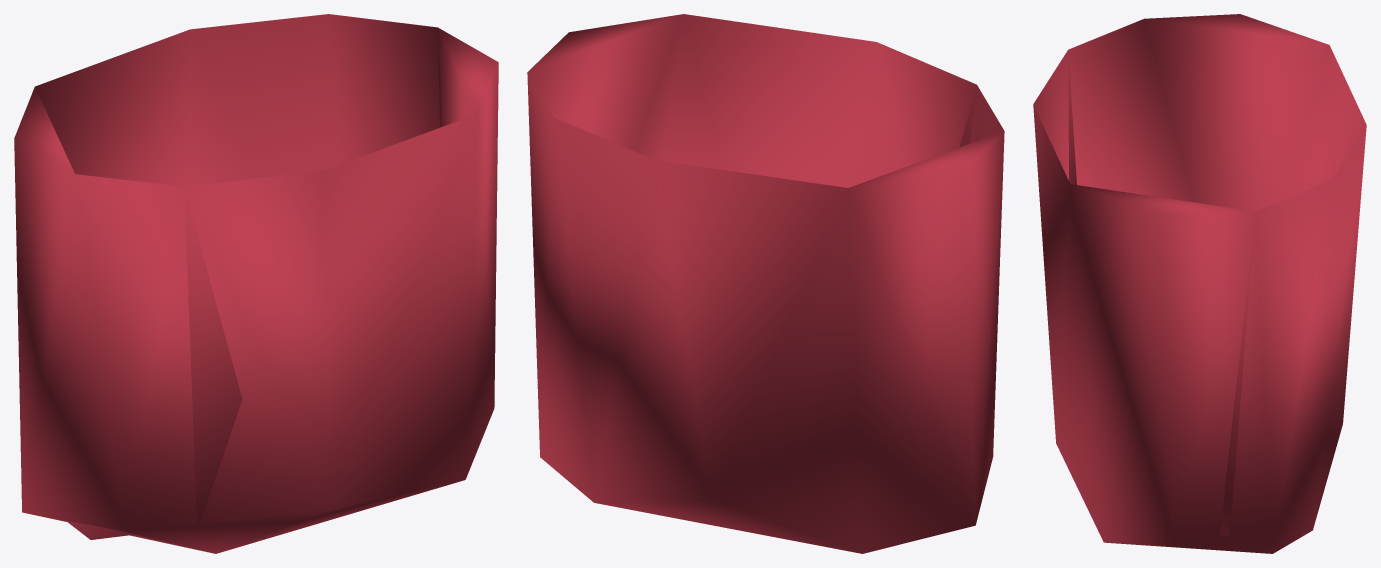
The model's file is Bag.fbx.
3 renders of one model, left to right at view 1: azimuth 30°, elevation 25°; view 2: azimuth 150°, elevation 25°; view 3: azimuth 270°, elevation 25°, orthographic. The views are drawn at different scales.
Visible parts, largest first — view 1: Cube.016; view 2: Cube.016; view 3: Cube.016.
Boxes of the visible parts, x1,y1,x2,y2 form: Cube.016: (14,14,498,553); Cube.016: (527,14,1004,553); Cube.016: (1033,14,1366,553).
Size of the model in its own units: 499 by 421 by 345.
